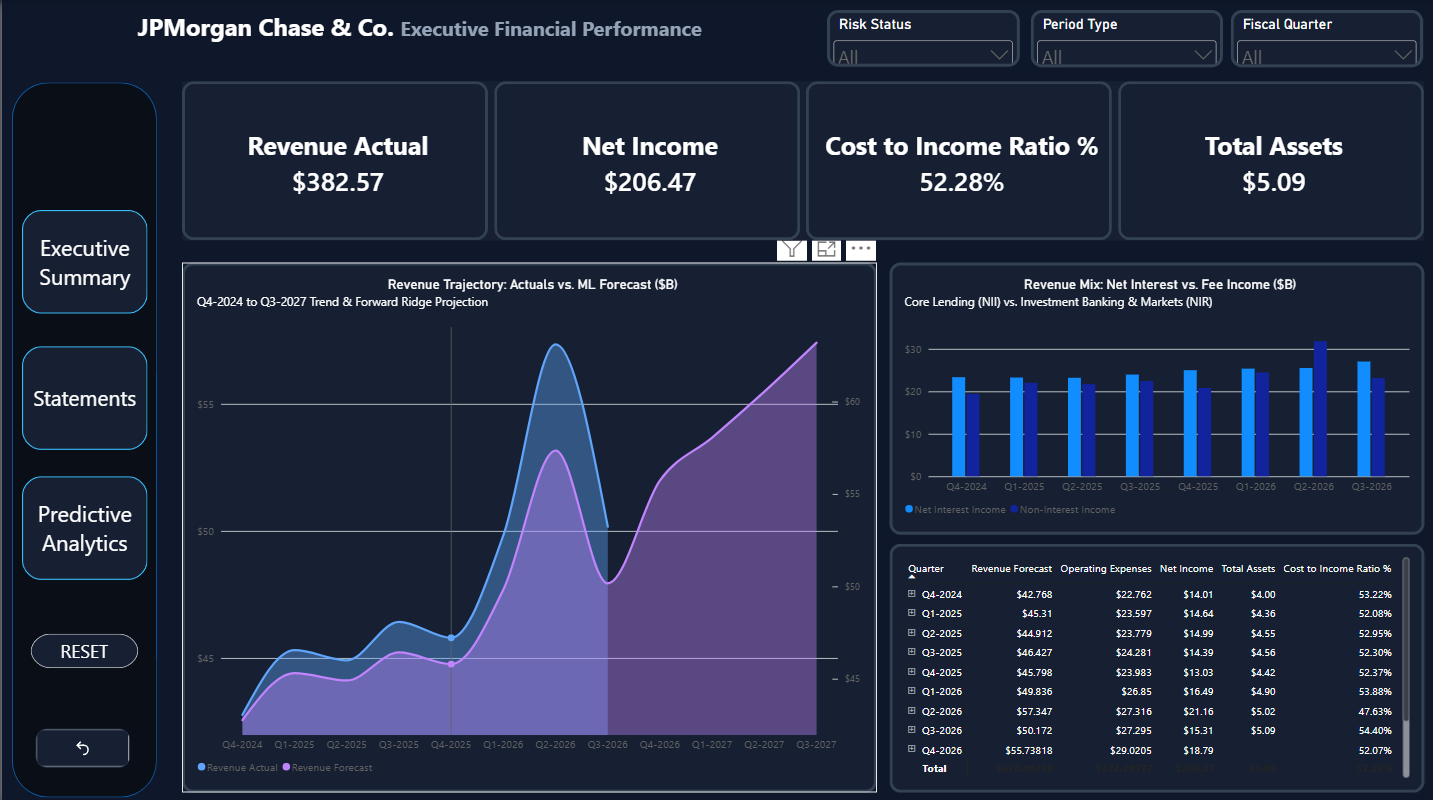

What the dashboard file says about the page in this screenshot:
{"tool":"powerbi","page":{"name":"Executive Financial Performance","canvas":[1920,1080],"ordinal":0},"visuals":[{"type":"shape","box":[14,110,194,958],"z":0},{"type":"areaChart","title":"Revenue Trajectory: Actuals vs. ML Forecast ($B)","fields":{"Category":["jpm_financial_ml_enriched.Quarter"],"Y":["_JPM_Measures.Revenue Actual"],"Y2":["_JPM_Measures.Revenue Forecast"]},"box":[241.2,351.7,931.3,710.2],"z":1000},{"type":"cardVisual","fields":{"Data":["_JPM_Measures.Revenue Actual","_JPM_Measures.Net Income","_JPM_Measures.Cost to Income Ratio %","_JPM_Measures.Total Assets"]},"box":[240.4,109.5,1664.1,213.7],"z":2000},{"type":"clusteredColumnChart","title":"Revenue Mix: Net Interest vs. Fee Income ($B)","fields":{"Category":["jpm_financial_ml_enriched.Quarter"],"Y":["_JPM_Measures.Net Interest Income","_JPM_Measures.Non-Interest Income"]},"box":[1189.5,352.3,716.9,364.5],"z":3000},{"type":"pivotTable","fields":{"Rows":["jpm_financial_ml_enriched.Quarter","jpm_financial_ml_enriched.ml_anomaly_flag"],"Values":["_JPM_Measures.Revenue Forecast","_JPM_Measures.Operating Expenses","_JPM_Measures.Net Income","_JPM_Measures.Total Assets","_JPM_Measures.Cost to Income Ratio %"]},"box":[1189.2,728.6,716.9,333.3],"z":4000},{"type":"actionButton","box":[26,282,168.3,138.9],"z":5000},{"type":"actionButton","box":[26.7,464.8,168.3,138.9],"z":6000},{"type":"actionButton","box":[26.7,638.4,168.3,138.9],"z":7000},{"type":"slicer","fields":{"Values":["jpm_financial_ml_enriched.Quarter"]},"box":[1646,14,257.9,77],"z":8000},{"type":"slicer","fields":{"Values":["jpm_financial_ml_enriched.is_forecast"]},"box":[1378.5,13.4,257.9,77],"z":9000},{"type":"slicer","fields":{"Values":["jpm_financial_ml_enriched.ml_anomaly_flag"]},"box":[1106,14,258,76],"z":10000},{"type":"actionButton","box":[46,976,126,52],"z":11000},{"type":"textbox","box":[26,14,1066,76],"z":12000},{"type":"actionButton","box":[38,850,144,46],"z":13000}]}

Visuals, with their boxes in screenshot pixels (x1, y1, x2, y2), scaled from the page's 1920x1080 canvas onto the 1433x800 screenshot:
shape: (10,81,155,791)
"Revenue Trajectory: Actuals vs. ML Forecast ($B)" areaChart: (180,261,875,787)
cardVisual - _JPM_Measures.Revenue Actual x _JPM_Measures.Net Income: (179,81,1421,239)
"Revenue Mix: Net Interest vs. Fee Income ($B)" clusteredColumnChart: (888,261,1423,531)
pivotTable - jpm_financial_ml_enriched.Quarter x jpm_financial_ml_enriched.ml_anomaly_flag: (888,540,1423,787)
actionButton: (19,209,145,312)
actionButton: (20,344,146,447)
actionButton: (20,473,146,576)
slicer - jpm_financial_ml_enriched.Quarter: (1228,10,1421,67)
slicer - jpm_financial_ml_enriched.is_forecast: (1029,10,1221,67)
slicer - jpm_financial_ml_enriched.ml_anomaly_flag: (825,10,1018,67)
actionButton: (34,723,128,761)
textbox: (19,10,815,67)
actionButton: (28,630,136,664)
